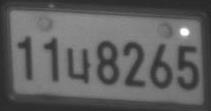1: (41, 36, 64, 81), (16, 36, 37, 80)
2: (123, 41, 147, 87)
5: (176, 44, 200, 90)
6: (149, 43, 173, 89)
8: (95, 39, 119, 84)
나: (65, 47, 91, 84)
